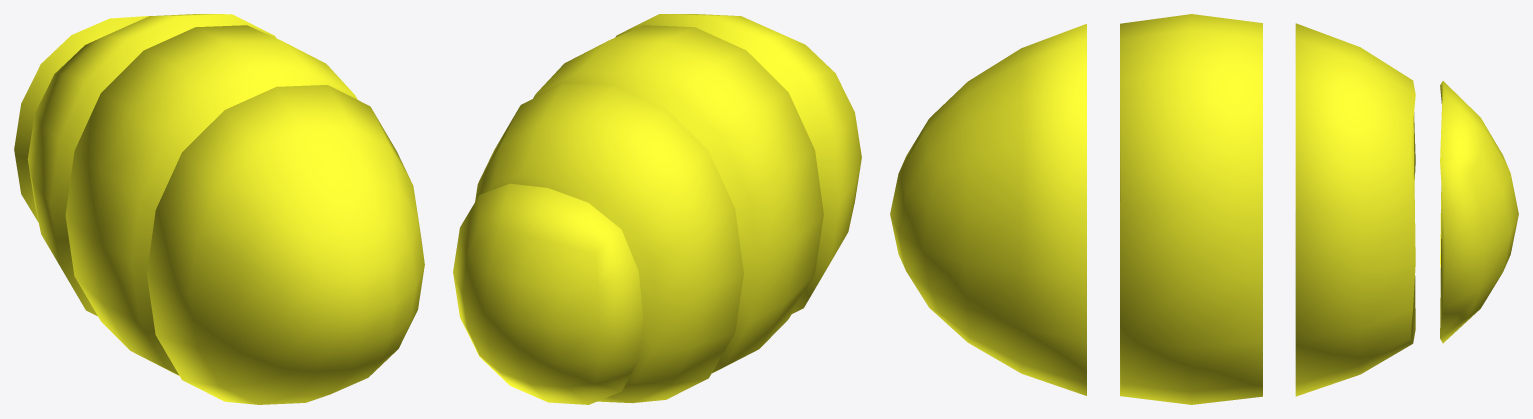
File: kentang 3.fbx
The picture shows the model from 3 angles, left to right: view 1: azimuth 30°, elevation 25°; view 2: azimuth 150°, elevation 25°; view 3: azimuth 270°, elevation 25°; orthographic projection. The views are drawn at different scales.
Visible parts, largest first — view 1: kentang.006, kentang.009, kentang.008, kentang.007; view 2: kentang.008, kentang.009, kentang.007, kentang.006; view 3: kentang.009, kentang.006, kentang.008, kentang.007.
Boxes of the visible parts, <box> form: kentang.006: <box>147,85,424,404</box>; kentang.009: <box>65,25,357,375</box>; kentang.008: <box>27,14,275,316</box>; kentang.007: <box>14,16,149,222</box>; kentang.008: <box>475,83,743,403</box>; kentang.009: <box>533,25,823,373</box>; kentang.007: <box>453,183,643,404</box>; kentang.006: <box>615,14,861,313</box>; kentang.009: <box>1120,14,1262,404</box>; kentang.006: <box>890,24,1086,395</box>; kentang.008: <box>1295,23,1415,396</box>; kentang.007: <box>1440,81,1518,343</box>.
Size of the model in its own units: 235 by 274 by 436.
